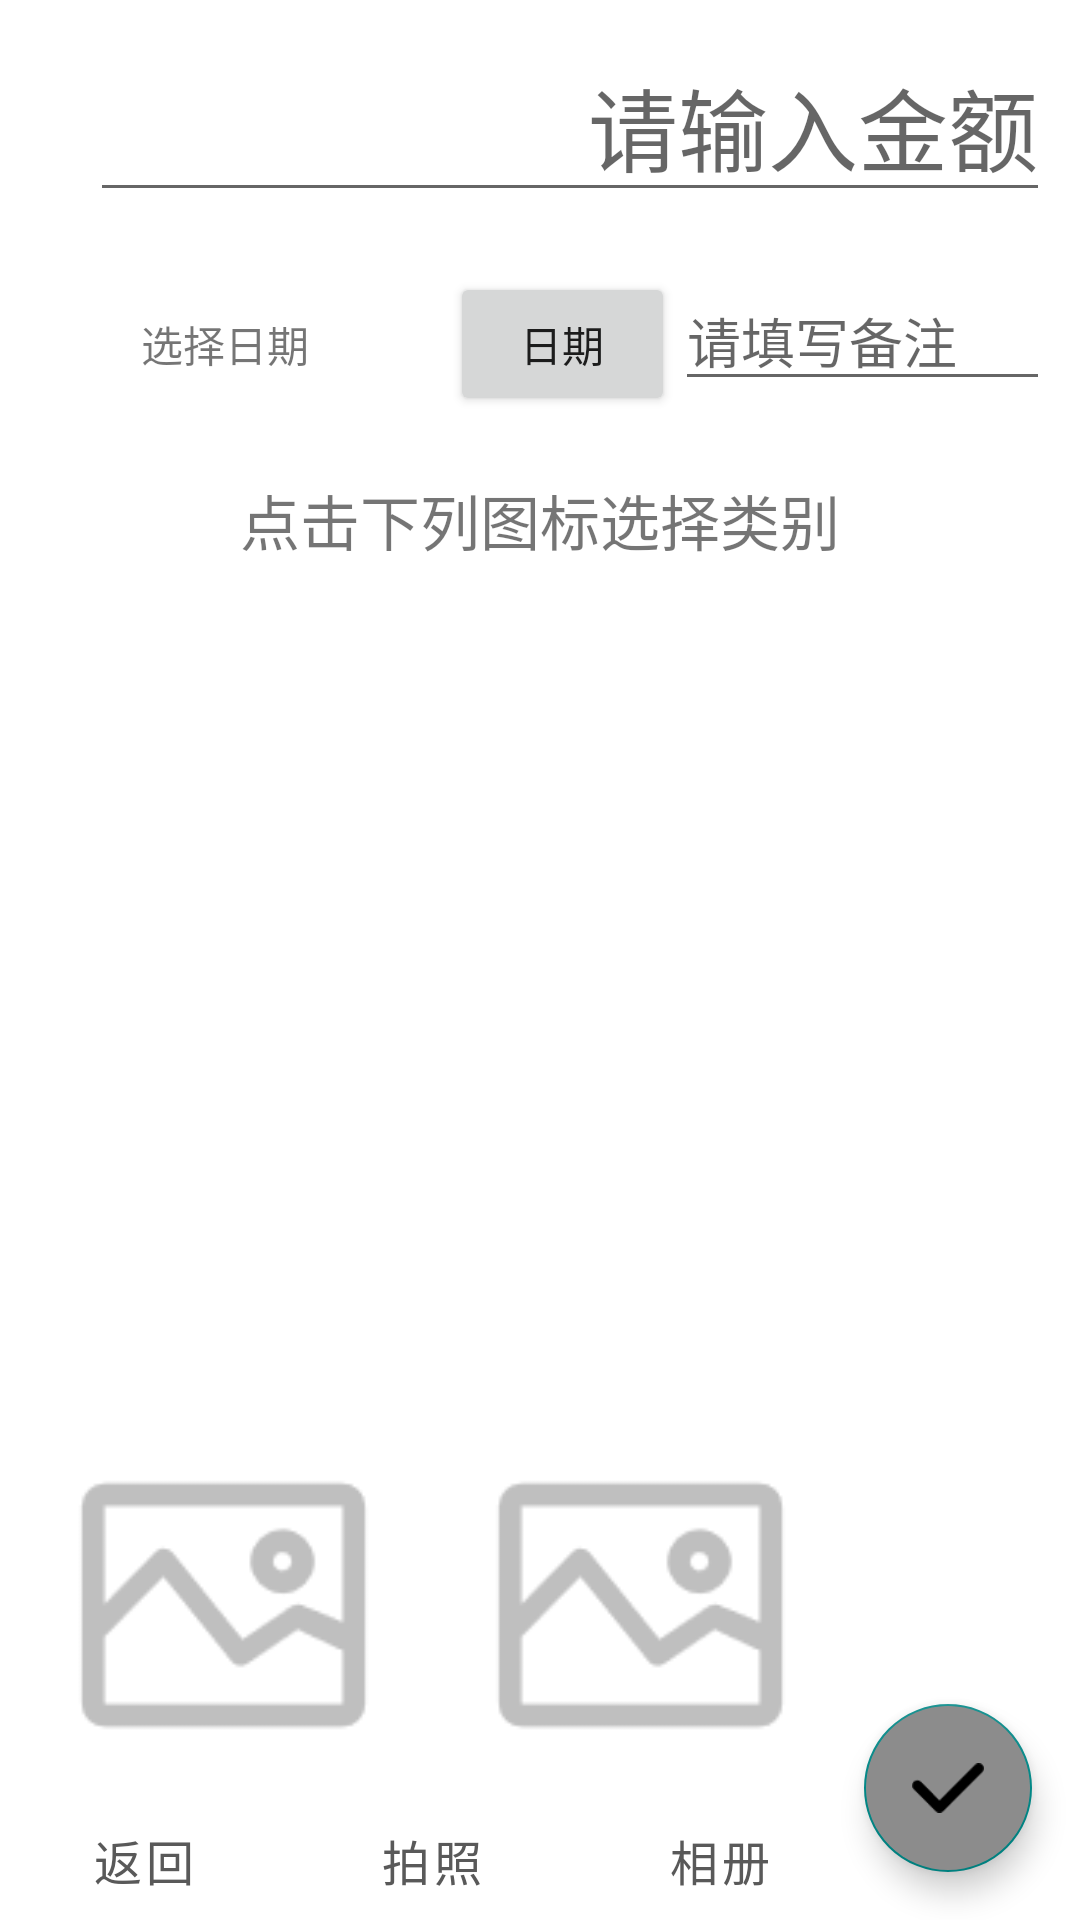

Icons on this 1080*1920 Android screen, each with its box as (x1, y1, x2, y2):
确定: (864, 1704, 1032, 1872)
